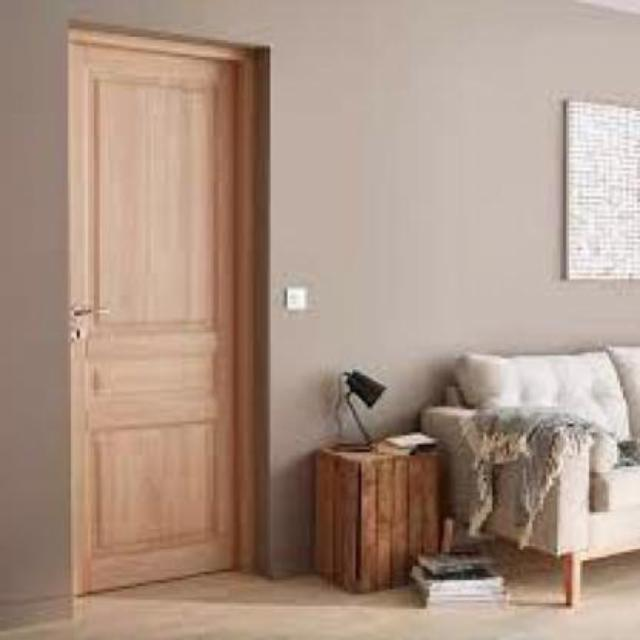door: (68, 28, 246, 595)
